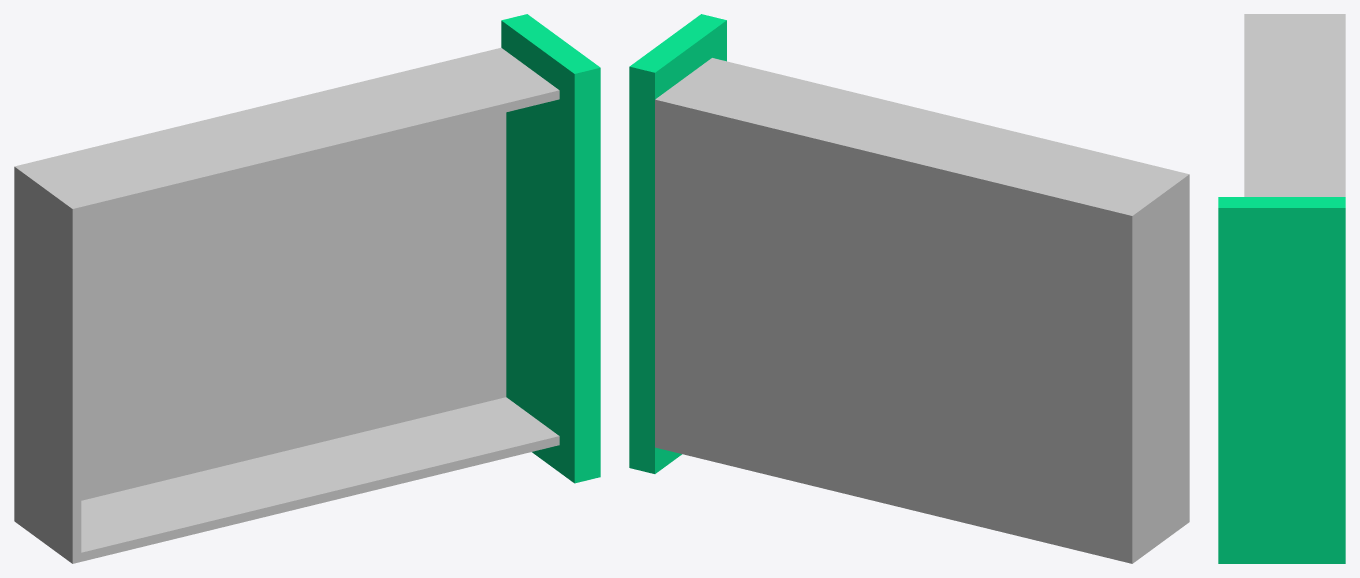
Rendered from ROOM73B2-KITCHEN-BODYSET5_link_mesh.dae.
3 renders of one model, left to right at view 1: azimuth 30°, elevation 25°; view 2: azimuth 150°, elevation 25°; view 3: azimuth 270°, elevation 25°, orthographic. The views are drawn at different scales.
Parts seen in each view (by area): view 1: ROOM73B2-KITCHEN-BODYSET5_link (×2); view 2: ROOM73B2-KITCHEN-BODYSET5_link (×2); view 3: ROOM73B2-KITCHEN-BODYSET5_link (×2).
Boxes of the visible parts, x1,y1,x2,y2 form: ROOM73B2-KITCHEN-BODYSET5_link (×2): [14, 14, 600, 563]; ROOM73B2-KITCHEN-BODYSET5_link (×2): [629, 14, 1189, 563]; ROOM73B2-KITCHEN-BODYSET5_link (×2): [1218, 14, 1345, 563].
Bounding box in the file's own units: 0.59 × 0.45 × 0.146.
